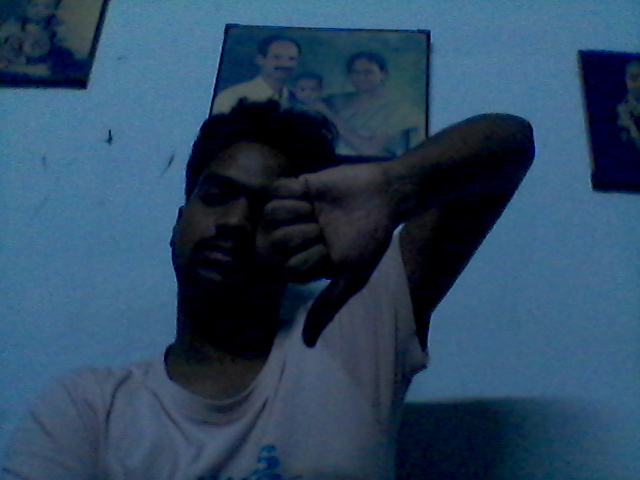Please: (263, 164, 397, 355)
